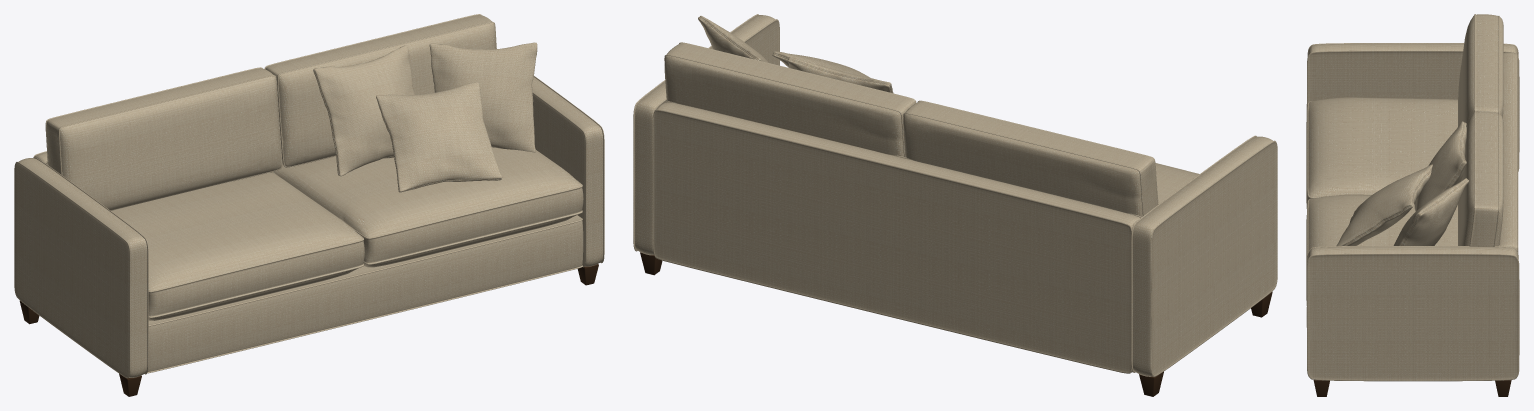
File: sofa.gltf
3 views of the same model, side by side, from view 1: azimuth 30°, elevation 25°; view 2: azimuth 150°, elevation 25°; view 3: azimuth 270°, elevation 25° (orthographic). The views are drawn at different scales.
Parts seen in each view (by area): view 1: sofa; view 2: sofa; view 3: sofa.
Part boxes in pixels (<box>): sofa: <box>14,14,604,396</box>; sofa: <box>633,14,1277,396</box>; sofa: <box>1306,14,1519,396</box>.
Bounding box in the file's own units: 2.18 × 0.9036 × 0.9304.
2 materials, 1 textured.
